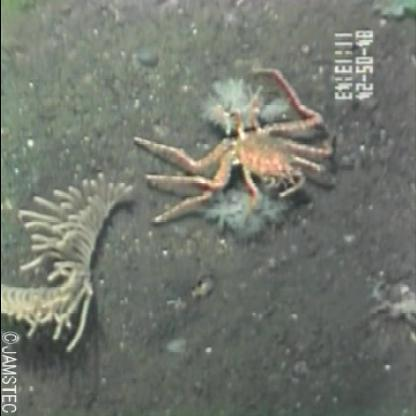Bio: (128, 64, 334, 232), (1, 170, 139, 354)
